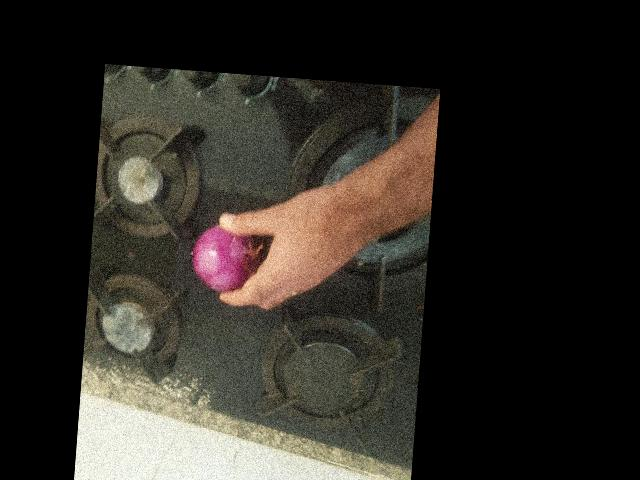onion: (119, 348, 186, 415)
